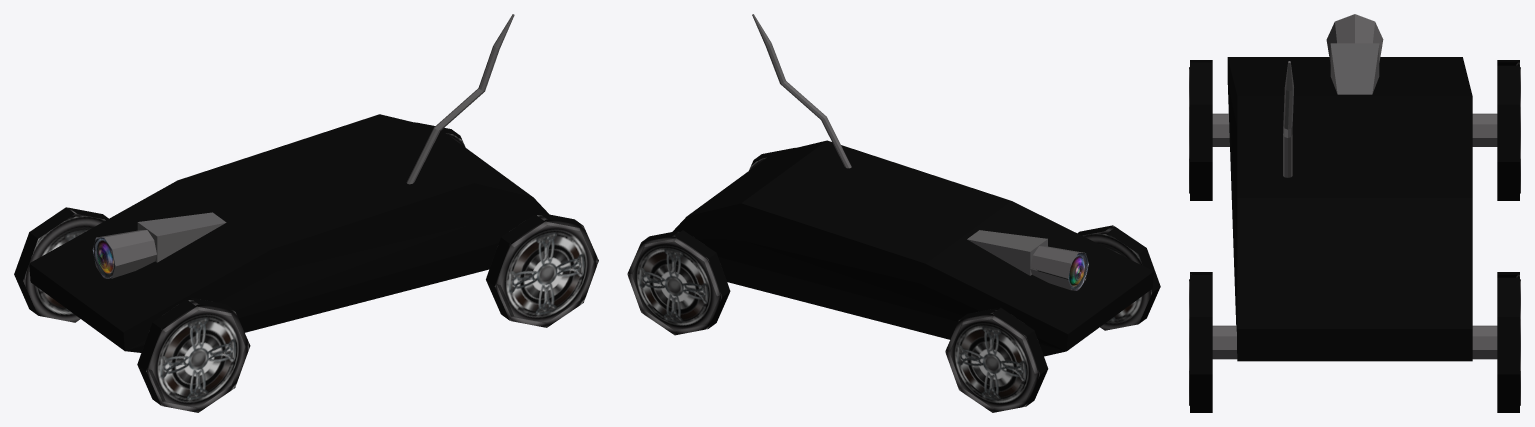
The model's file is item_drone.fbx.
The picture shows the model from 3 angles, left to right: view 1: azimuth 30°, elevation 25°; view 2: azimuth 150°, elevation 25°; view 3: azimuth 270°, elevation 25°; orthographic projection. The views are drawn at different scales.
Visible parts, largest first — view 1: Chassi, Wheel.001, Wheel.004, Wheel.003, Camera, CameraSocket, Antenna; view 2: Chassi, Wheel.003, Wheel.002, Wheel.001, Camera, CameraSocket, Antenna; view 3: Chassi, Wheel.001, Wheel.002, Wheel.003, Wheel.004, CameraSocket, WheelAxe.002, WheelAxe.001, Camera, Antenna.
Part boxes in pixels (x1,y1,x2,y2): Chassi: (29, 114, 549, 352); Wheel.001: (137, 297, 250, 412); Wheel.004: (486, 212, 598, 327); Wheel.003: (14, 207, 108, 322); Camera: (92, 230, 156, 278); CameraSocket: (137, 212, 226, 262); Antenna: (406, 14, 514, 184); Chassi: (672, 140, 1153, 356); Wheel.003: (945, 307, 1048, 412); Wheel.002: (627, 230, 730, 335); Wheel.001: (1077, 225, 1160, 330); Camera: (1030, 246, 1088, 290); CameraSocket: (967, 230, 1047, 275); Antenna: (752, 14, 851, 168); Chassi: (1227, 57, 1472, 361); Wheel.001: (1189, 60, 1212, 200); Wheel.002: (1497, 272, 1520, 412); Wheel.003: (1497, 60, 1520, 200); Wheel.004: (1189, 272, 1212, 412); CameraSocket: (1330, 43, 1379, 94); WheelAxe.002: (1212, 325, 1497, 359); WheelAxe.001: (1212, 113, 1497, 146); Camera: (1326, 14, 1383, 63); Antenna: (1283, 61, 1293, 177).
Size of the model in its own units: 1554 by 913 by 777.
Materials: 4 (4 with a texture image).
